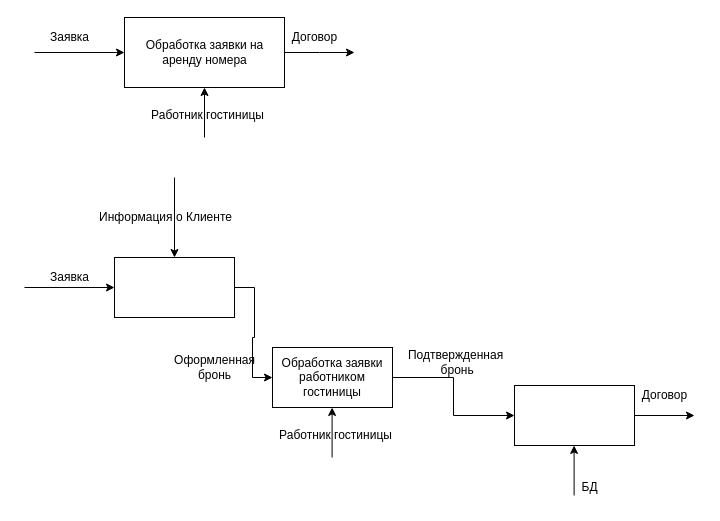
The diagram is 720 pixels wide and 521 high, and some of its shapes have lost their labels. The centre of each missing label's shape, as x and y in pixels:
"Запись в БД" goes at (574,415).
"Формирование заявки" goes at (174,287).
